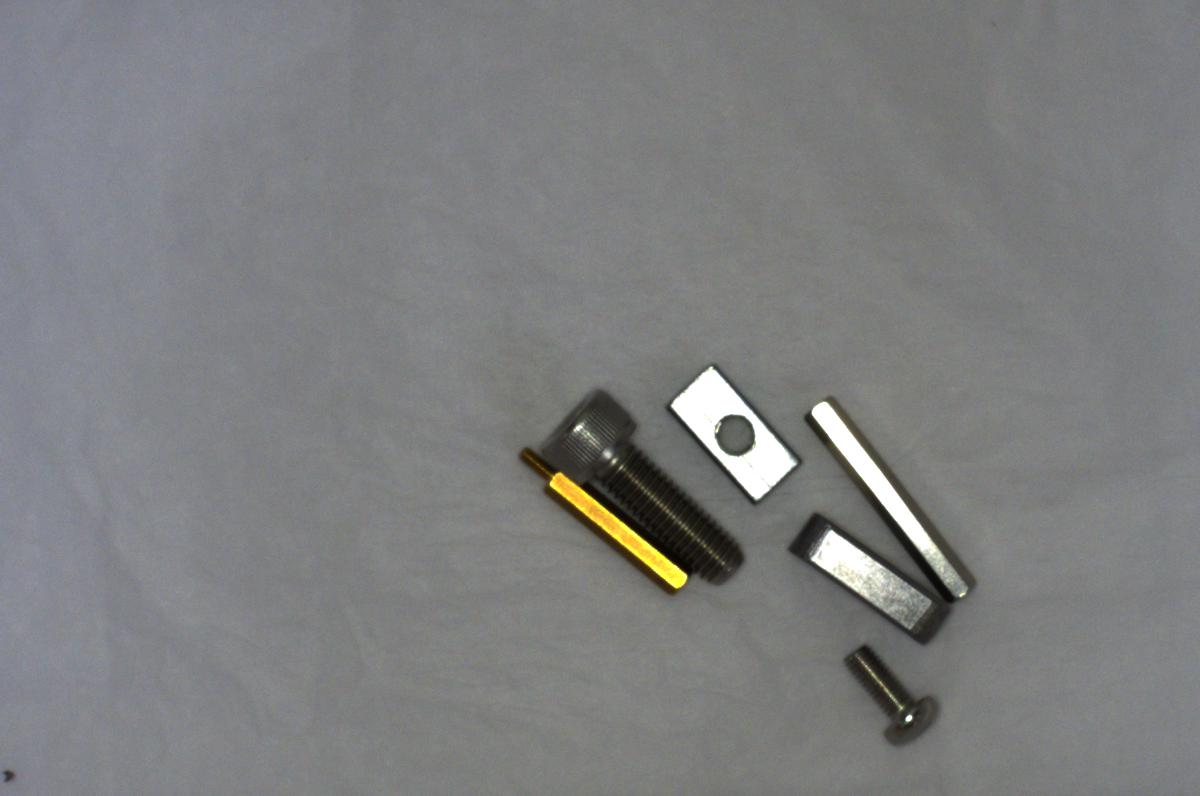Double hexagonal column: (802, 382, 982, 605)
Hexagon pillar: (510, 437, 694, 592)
Hexagon screw: (544, 383, 758, 589)
Keybar: (785, 513, 951, 649)
Rectangular nut: (667, 359, 801, 510)
Round head screw: (841, 633, 944, 753)
